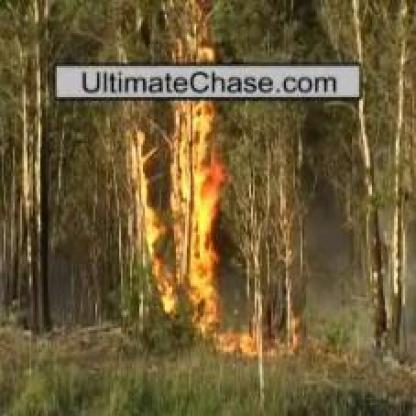fire: (114, 0, 229, 337), (199, 314, 298, 354)
